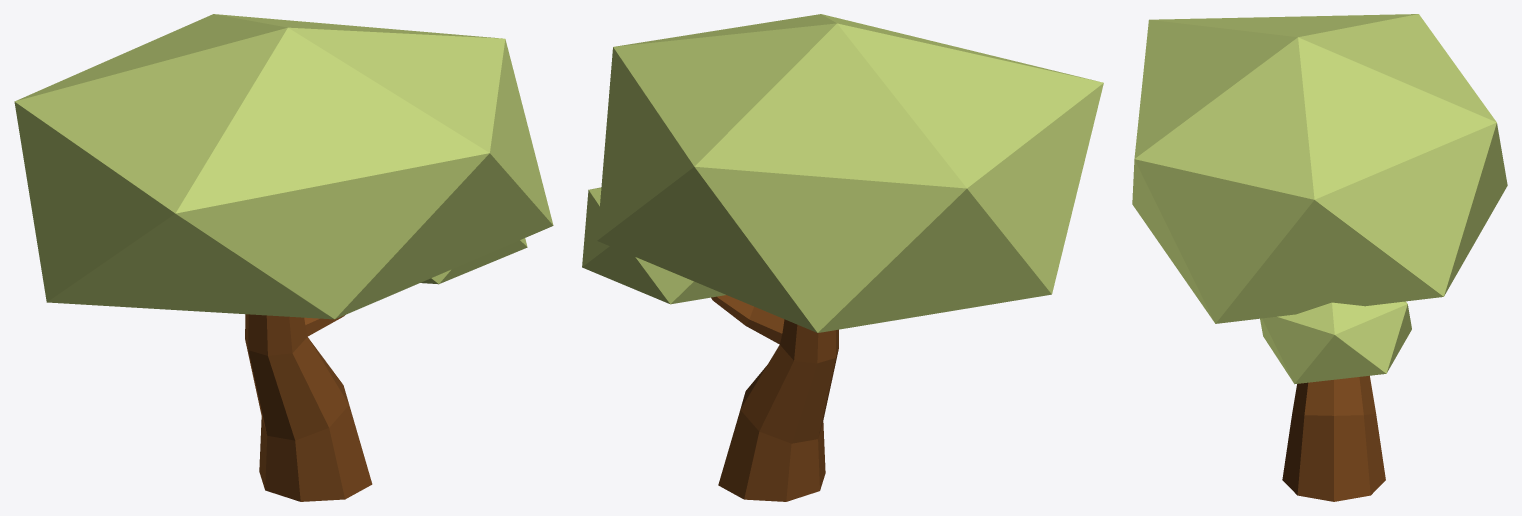
Rendered from Bush2.gltf.
3 views of the same model, side by side, from view 1: azimuth 30°, elevation 25°; view 2: azimuth 150°, elevation 25°; view 3: azimuth 270°, elevation 25° (orthographic). The views are drawn at different scales.
Visible parts, largest first — view 1: Bush2_Icosphere.002; view 2: Bush2_Icosphere.002; view 3: Bush2_Icosphere.002.
Boxes of the visible parts, <box> form: Bush2_Icosphere.002: <box>14,14,553,501</box>; Bush2_Icosphere.002: <box>582,14,1103,501</box>; Bush2_Icosphere.002: <box>1132,14,1507,501</box>.
Size of the model in its own units: 0.9968 by 0.9567 by 0.7714.
